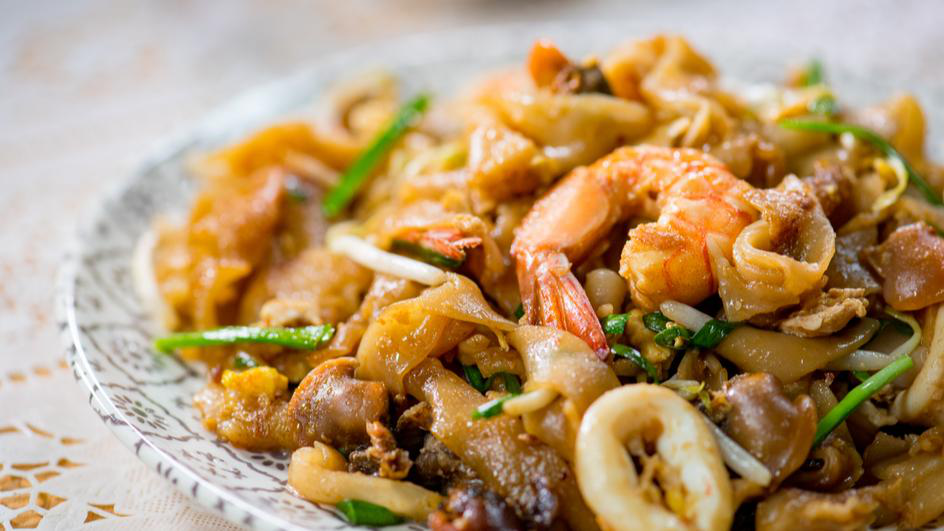Char Kway Teow: (159, 66, 935, 508)
